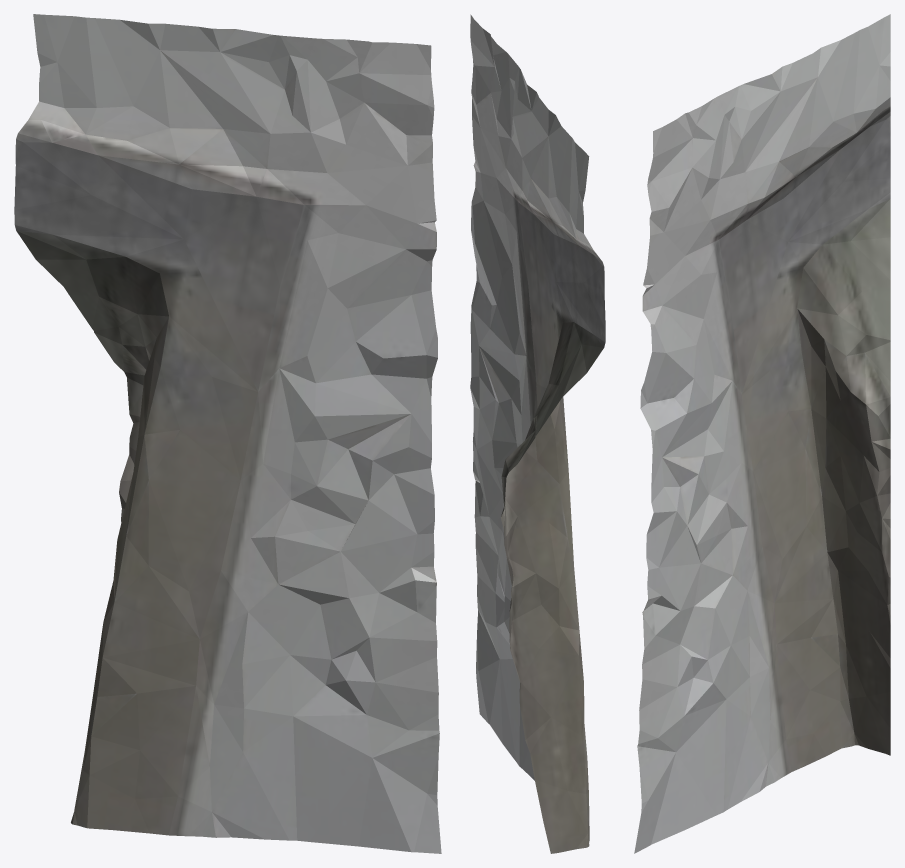
3 renders of one model, left to right at view 1: azimuth 30°, elevation 25°; view 2: azimuth 150°, elevation 25°; view 3: azimuth 270°, elevation 25°, orthographic. The views are drawn at different scales.
Bounding box in the file's own units: 0.6238 × 1.67 × 0.5389.
Materials: 1 (1 with a texture image).
